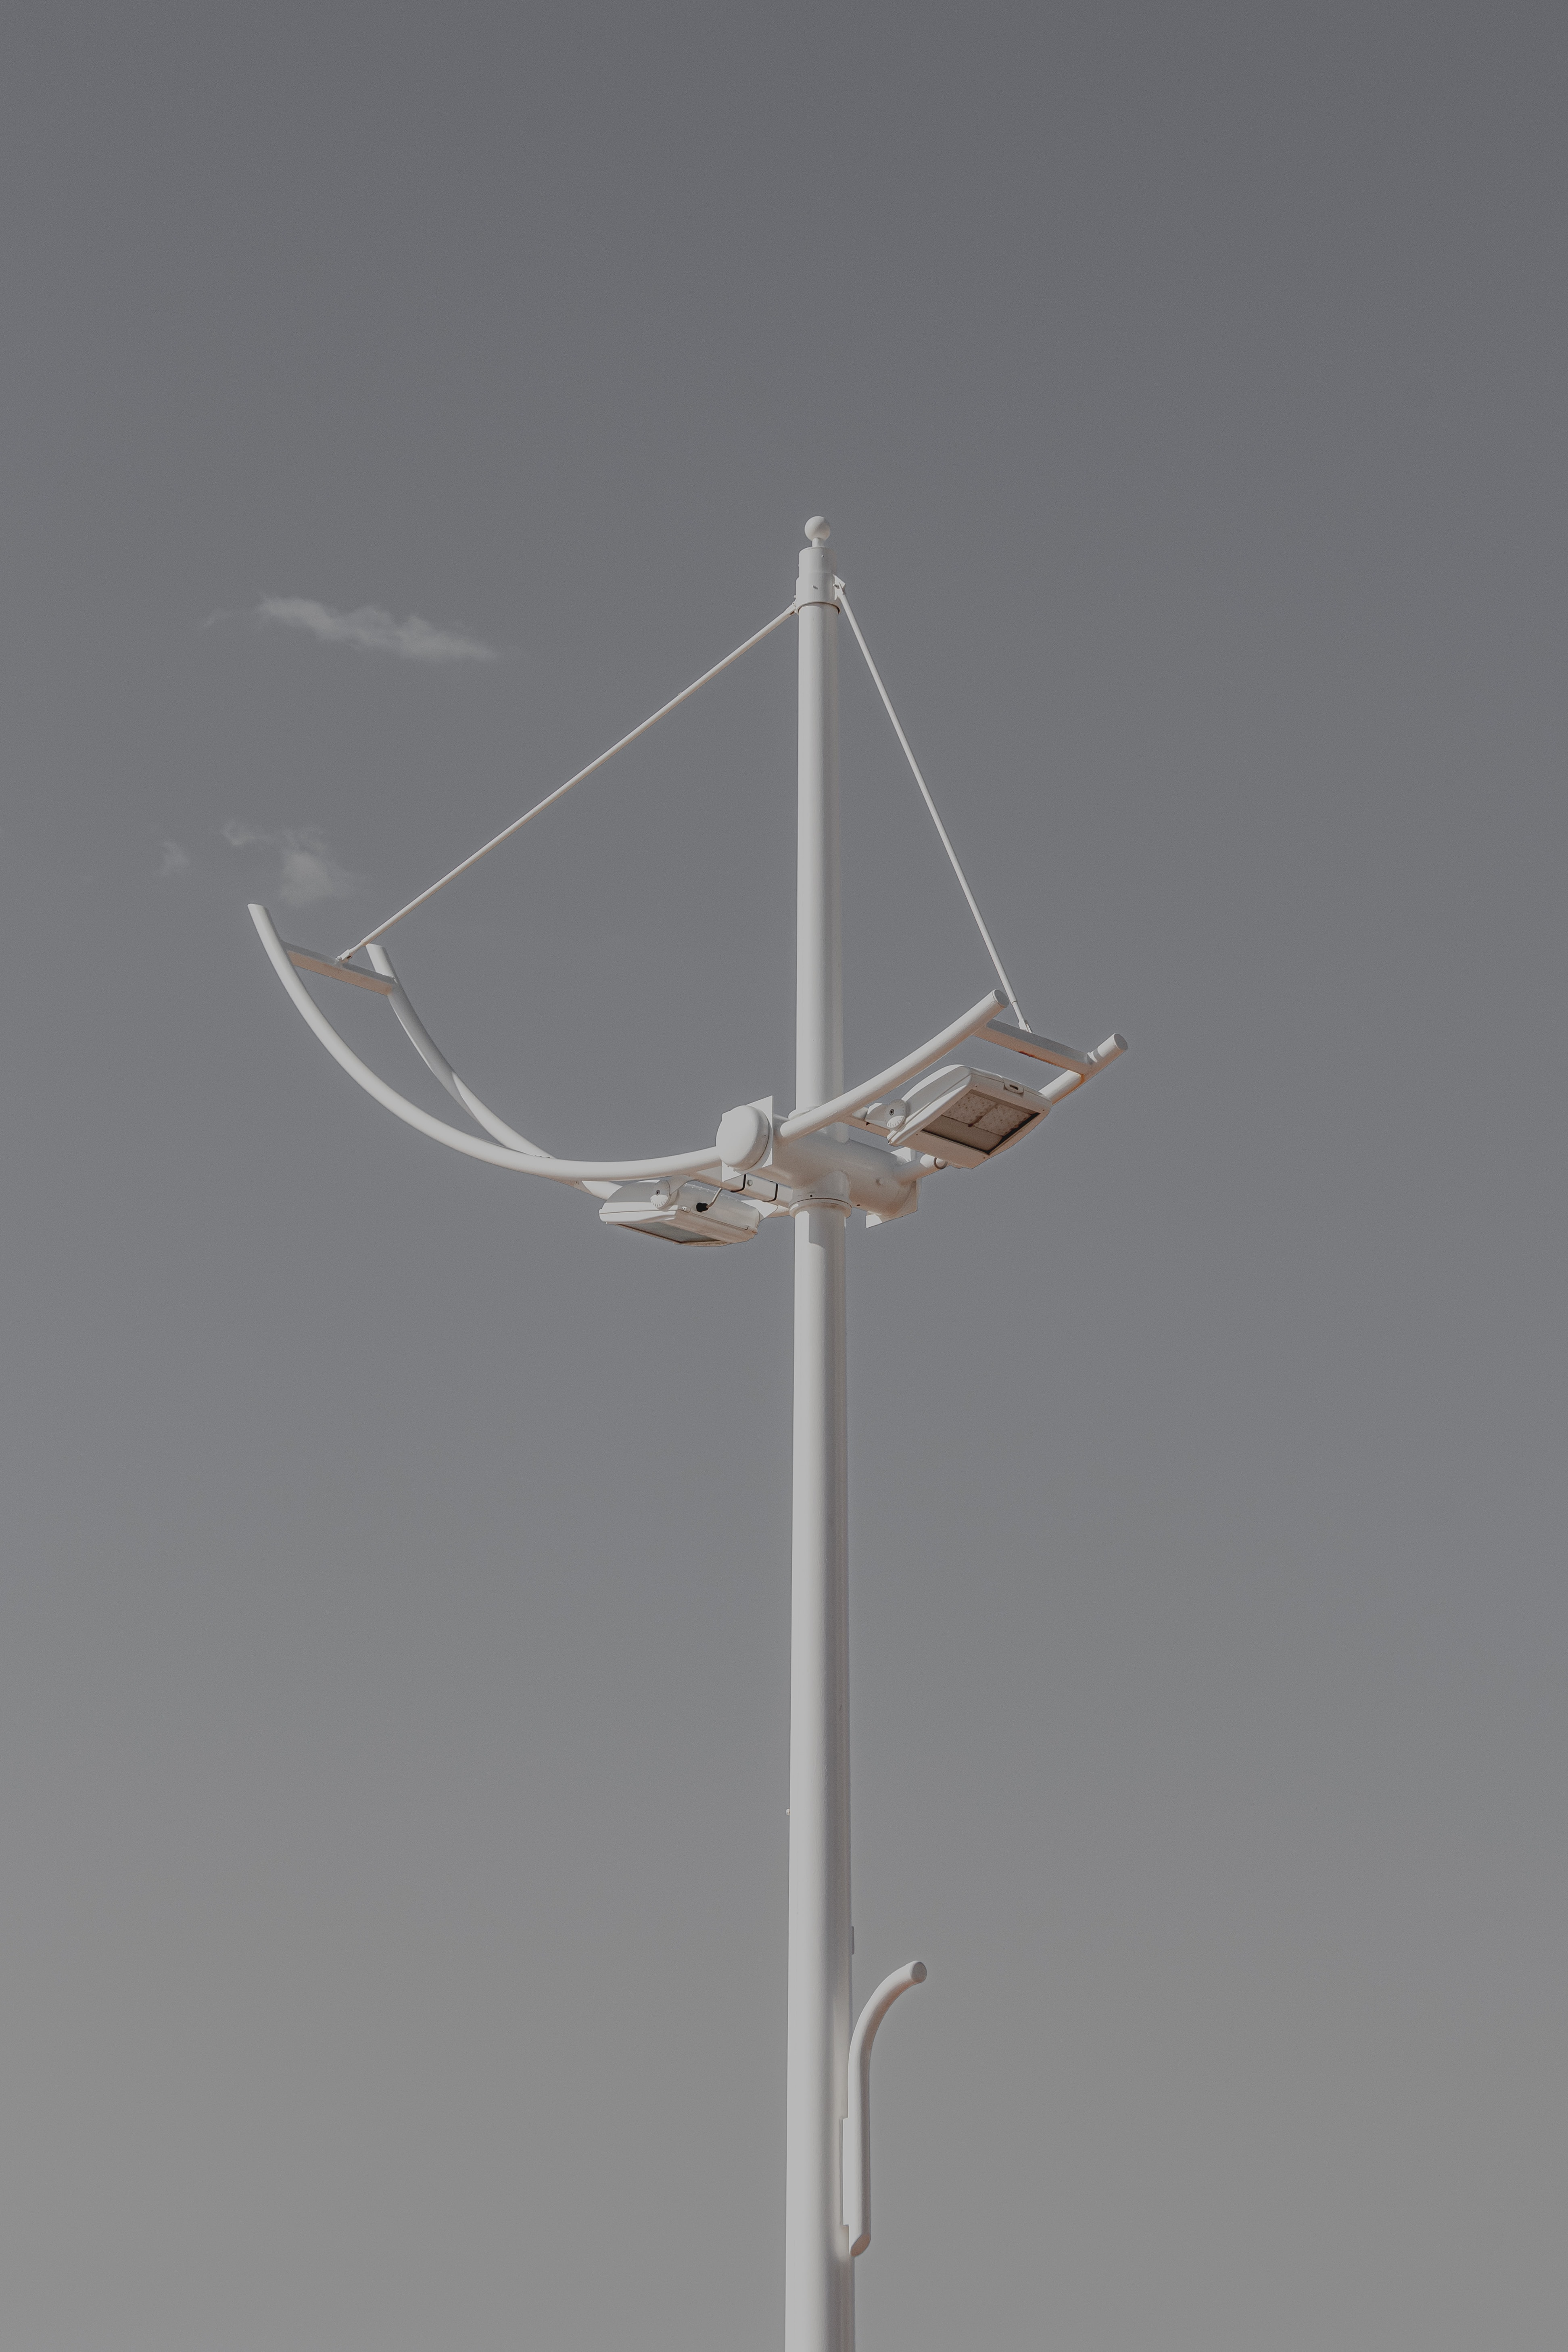working: (255, 511, 1146, 1365)
